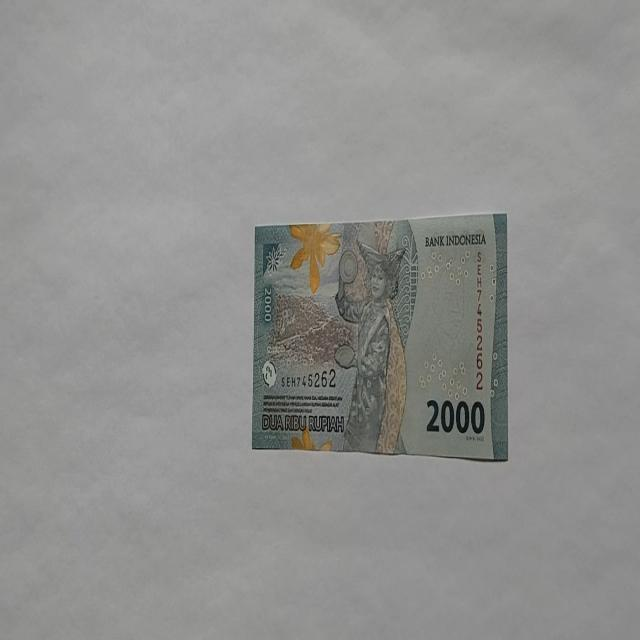dua ribu rupiah: (251, 212, 508, 460), (334, 236, 408, 454), (288, 222, 342, 294)
